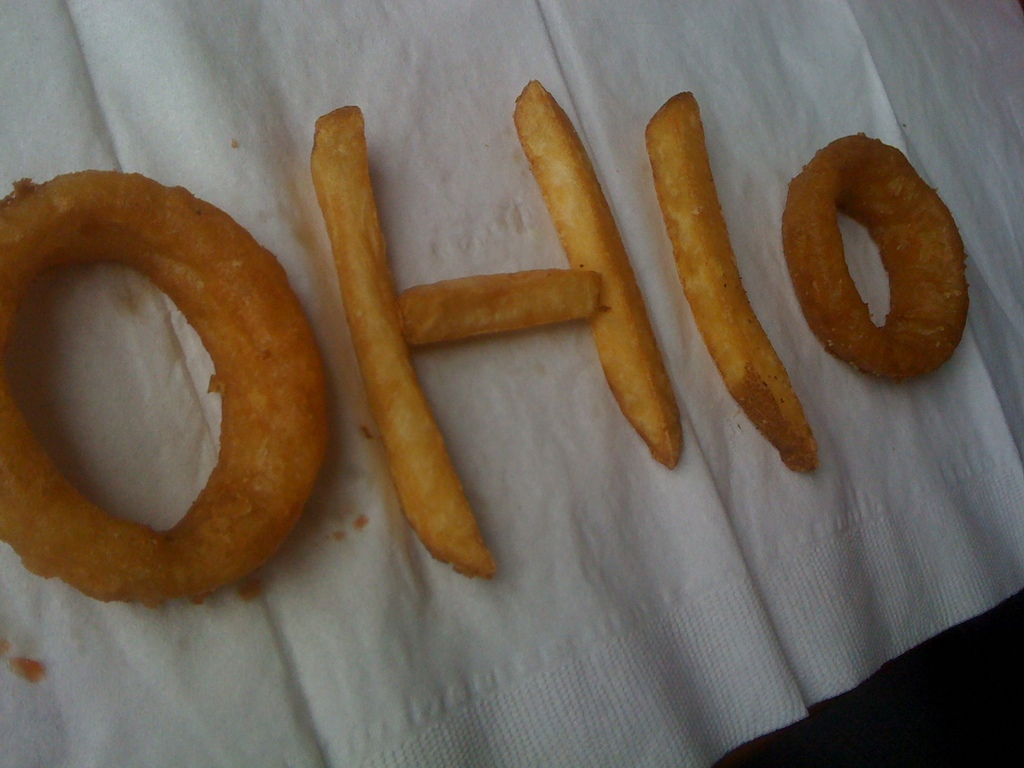French fries: (305, 68, 828, 584)
